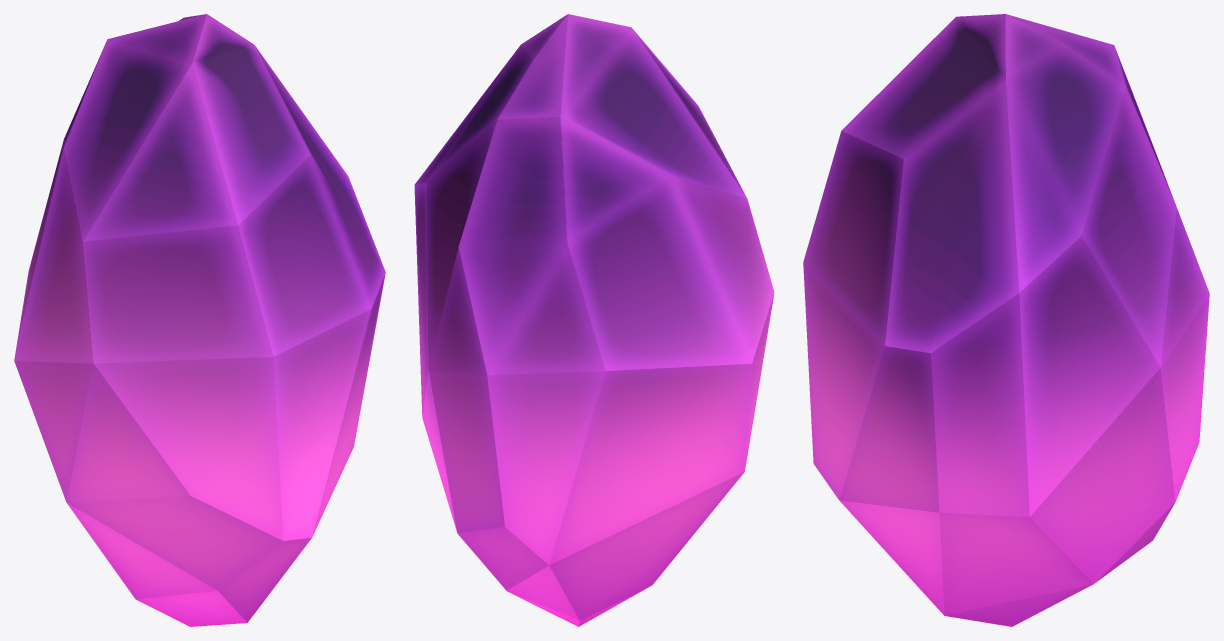
The model's file is crystal_effect_purple.fbx.
3 views of the same model, side by side, from view 1: azimuth 30°, elevation 25°; view 2: azimuth 150°, elevation 25°; view 3: azimuth 270°, elevation 25° (orthographic). The views are drawn at different scales.
Visible parts, largest first — view 1: crystal_effect_purple; view 2: crystal_effect_purple; view 3: crystal_effect_purple.
Boxes of the visible parts, x1=… form: crystal_effect_purple: x1=14, y1=14, x2=385, y2=626; crystal_effect_purple: x1=414, y1=14, x2=774, y2=626; crystal_effect_purple: x1=803, y1=14, x2=1209, y2=626.
Bounding box in the file's own units: 3.13 × 5.43 × 3.23.
